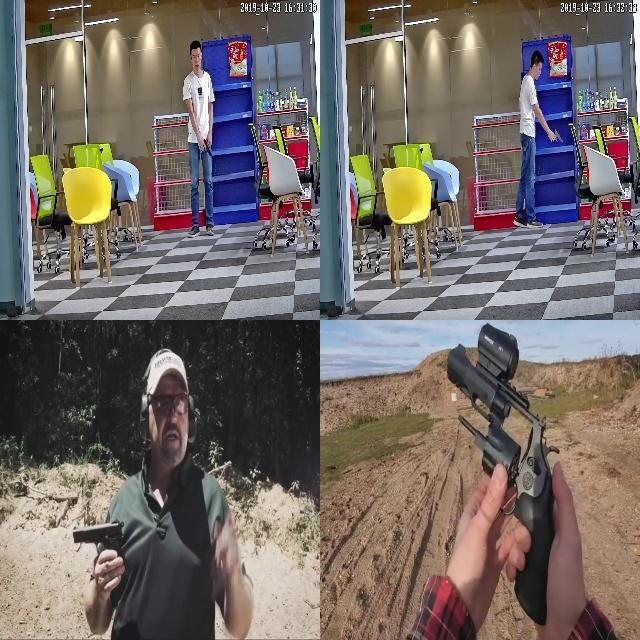gun-knife-thesis - v11 Yolov5 augmented: (426, 319, 587, 635), (70, 514, 128, 588), (196, 134, 214, 155), (549, 124, 565, 145)
